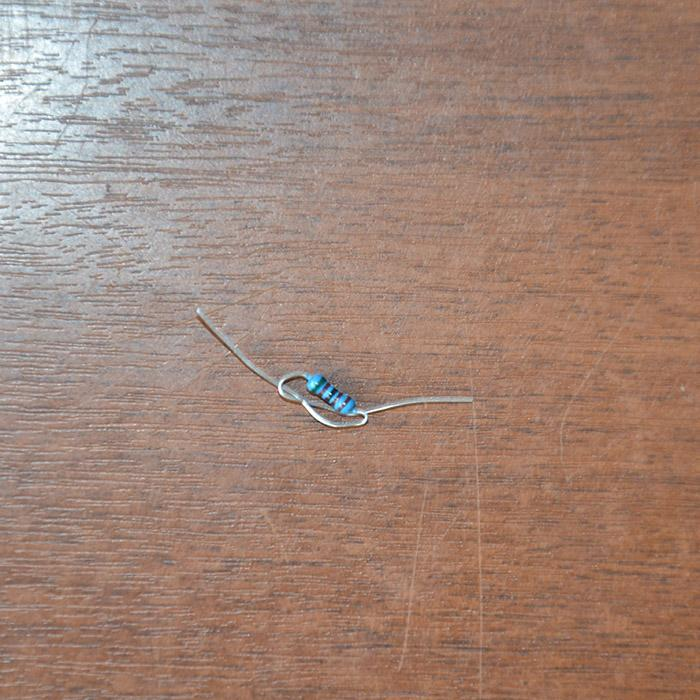resistor: (305, 372, 355, 413)
